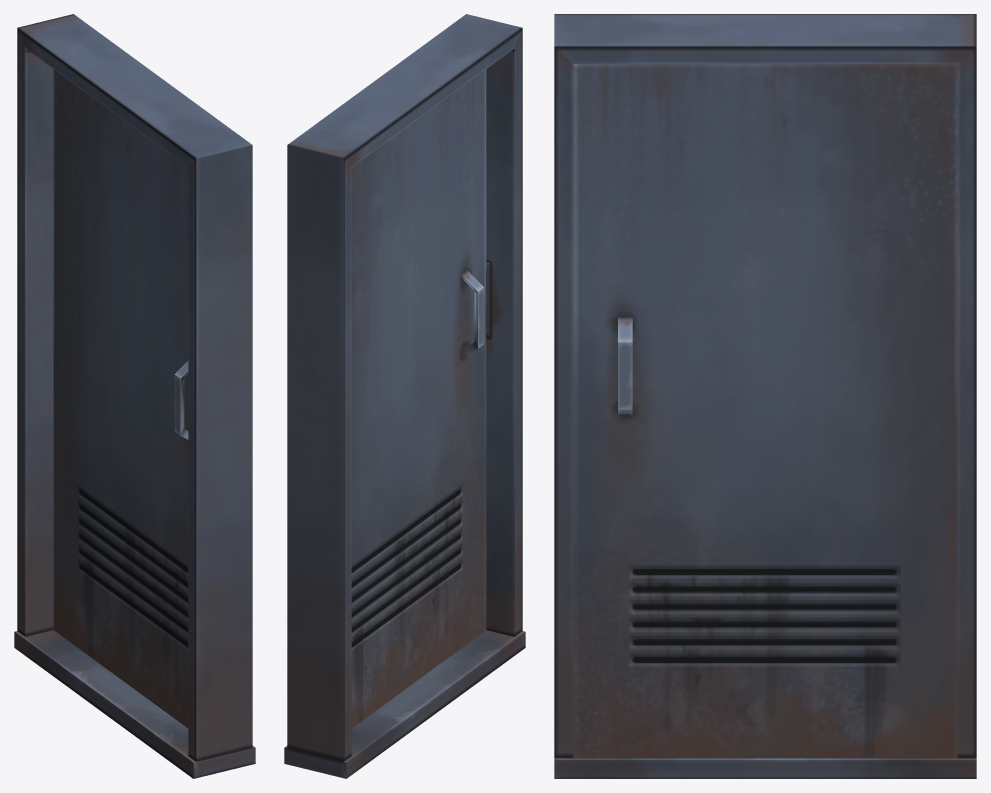
File: door13.FBX
3 views of the same model, side by side, from view 1: azimuth 30°, elevation 25°; view 2: azimuth 150°, elevation 25°; view 3: azimuth 270°, elevation 25° (orthographic). The views are drawn at different scales.
Visible parts, largest first — view 1: door13_frame, door13; view 2: door13_frame, door13; view 3: door13, door13_frame.
Part boxes in pixels (x1,y1,x2,y2): door13_frame: [14, 14, 255, 778]; door13: [53, 69, 188, 728]; door13_frame: [284, 14, 525, 778]; door13: [351, 69, 486, 728]; door13: [573, 64, 957, 758]; door13_frame: [554, 14, 976, 778].
Bounding box in the file's own units: 26.97 × 210 × 110.
